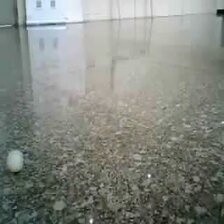w: (6, 149, 25, 175)
